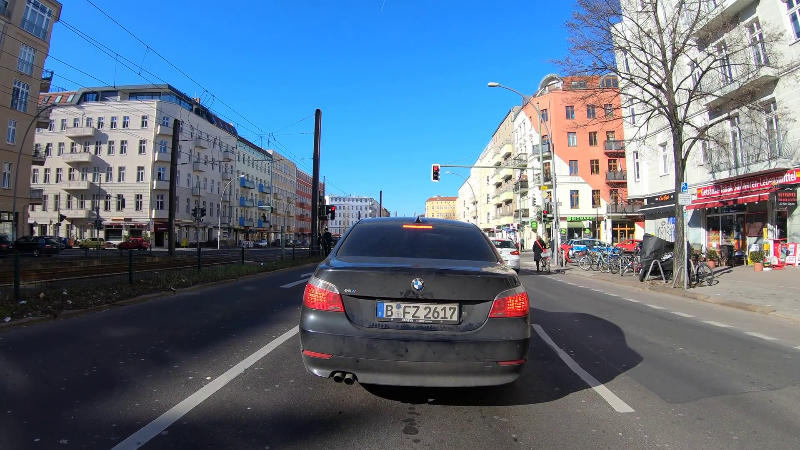Plate: (375, 298, 459, 322)
